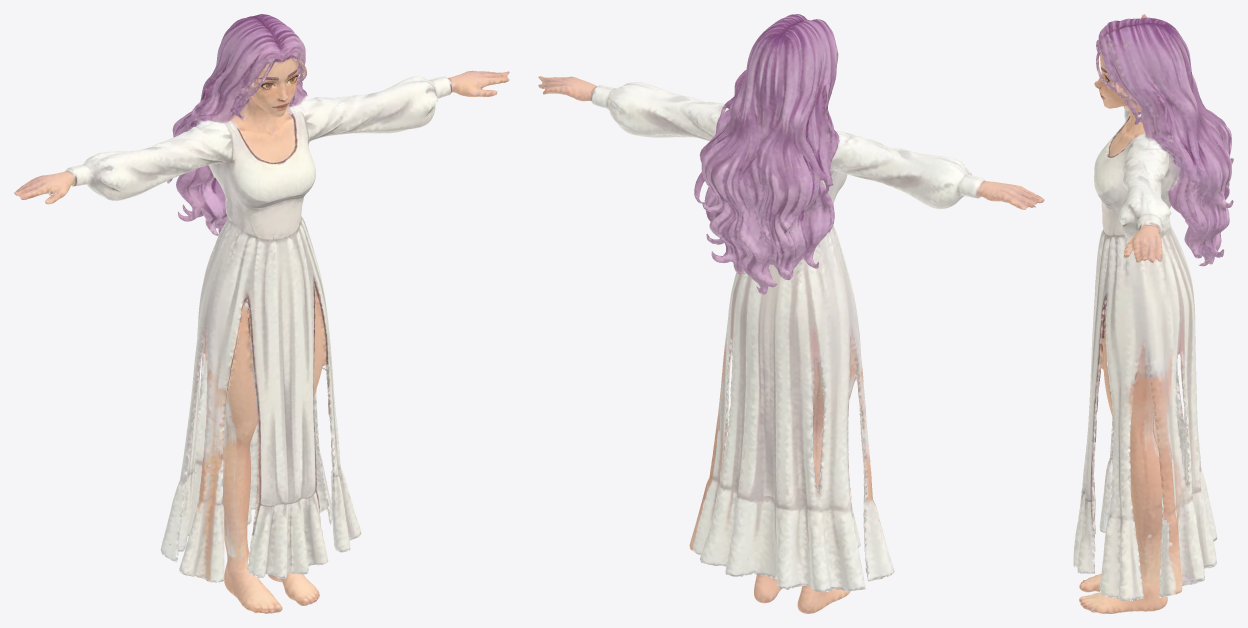
File: female-meshy-hq-fixed.glb
The picture shows the model from 3 angles, left to right: view 1: azimuth 30°, elevation 25°; view 2: azimuth 150°, elevation 25°; view 3: azimuth 270°, elevation 25°; orthographic projection. The views are drawn at different scales.
Visible parts, largest first — view 1: Mesh_0; view 2: Mesh_0; view 3: Mesh_0.
Part boxes in pixels (x1,y1,x2,y2): Mesh_0: [14, 14, 509, 613]; Mesh_0: [538, 14, 1044, 613]; Mesh_0: [1073, 14, 1233, 613].
Size of the model in its own units: 1.74 by 1.91 by 0.4829.
1 material, 1 textured.
